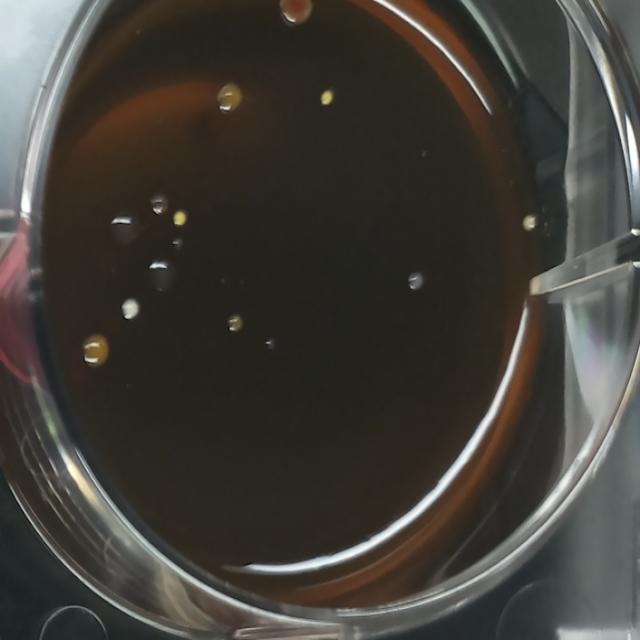Staphylococcus: (118, 296, 142, 324), (404, 266, 428, 294), (520, 212, 540, 236), (171, 208, 187, 229), (319, 88, 335, 109)
Vibrio: (146, 253, 180, 297), (108, 209, 142, 249)
